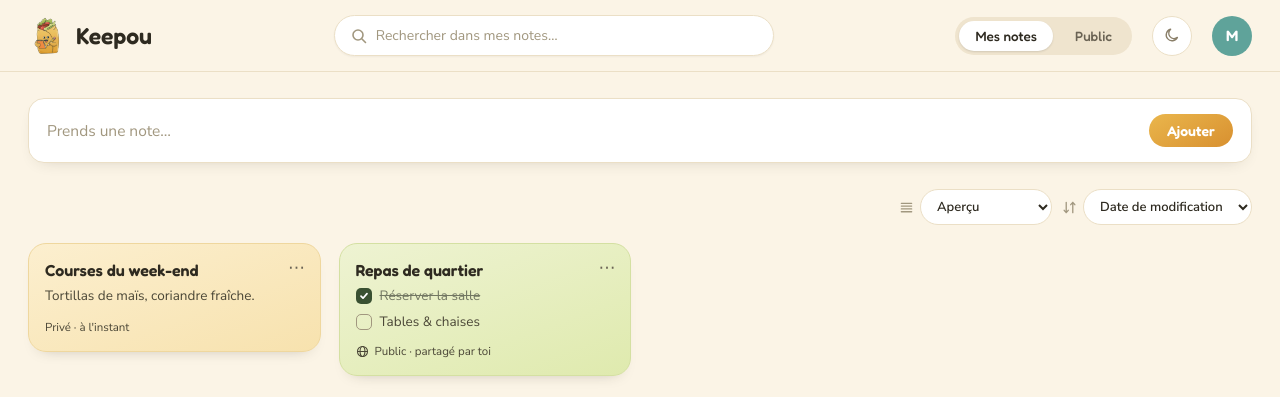
Test: BoardPage › switches the list when clicking the Public tab
The image size is (1280, 397).
Expected: the button "Courses du week-end" is shown, x1=28 y1=243 x2=320 y2=352
Click the tab "Public" at coordinates (1094, 36), box x1=1059 y1=20 x2=1128 y2=50
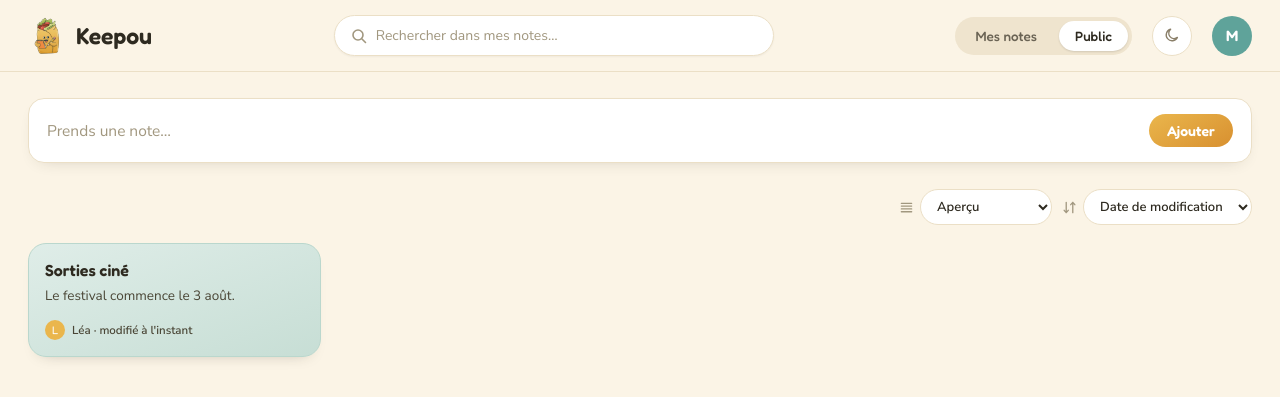
Expected: the button "Sorties ciné" is shown, x1=28 y1=243 x2=320 y2=357
Expected: the button "Courses du week-end" is gone
